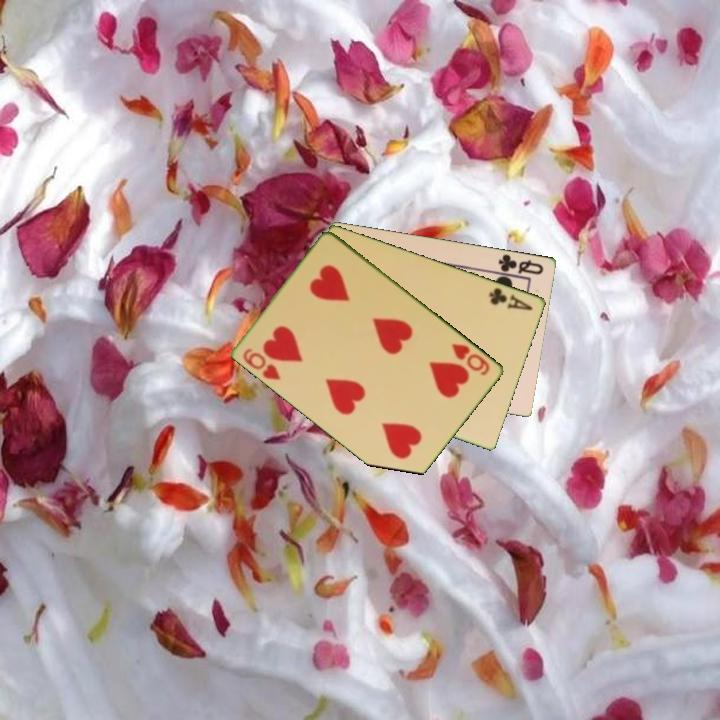6h: (448, 340, 493, 378), (240, 345, 284, 383)
Ac: (486, 284, 536, 313)
Qc: (492, 250, 547, 280)
